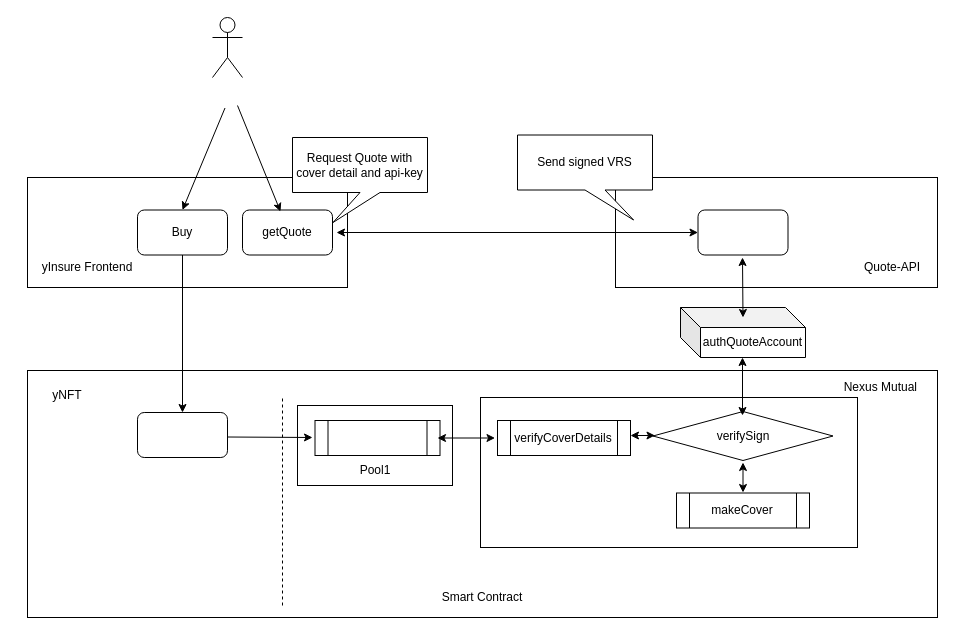
Image size: 955x635. Some labels were removed from this diagram. The centre of each missing label's shape, as x and y in pixels:
"Actor" belongs at (227,47).
"BuyCover" belongs at (182,435).
"makeCoverBegin" belongs at (377,438).
"SignQuote" belongs at (742,232).
